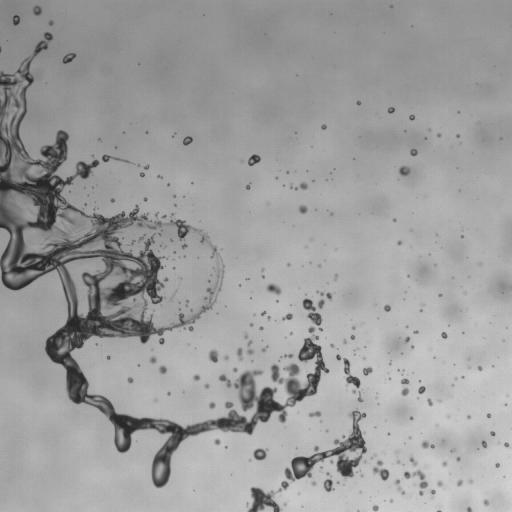droplet: (404, 469, 428, 495), (372, 460, 389, 480), (266, 283, 281, 295), (253, 448, 267, 460), (62, 53, 76, 63), (248, 154, 260, 165), (208, 349, 218, 362), (399, 166, 410, 176), (421, 440, 434, 448), (183, 136, 192, 145), (363, 366, 372, 375), (33, 6, 41, 15), (409, 457, 417, 466), (282, 313, 292, 320), (299, 205, 307, 213), (158, 366, 167, 373), (13, 15, 19, 25), (157, 242, 166, 248), (149, 356, 156, 363), (418, 386, 425, 393), (410, 149, 417, 155), (384, 304, 390, 311), (427, 398, 433, 405), (388, 107, 394, 113), (181, 243, 187, 249), (441, 332, 447, 338), (193, 374, 199, 380), (209, 402, 215, 408), (214, 438, 220, 444), (483, 499, 489, 505), (372, 505, 378, 511), (457, 479, 462, 486), (437, 480, 442, 487), (430, 489, 435, 496), (262, 346, 267, 352), (128, 377, 133, 383), (185, 299, 189, 306), (321, 124, 326, 129), (350, 334, 355, 339), (404, 337, 409, 342), (204, 383, 209, 388), (490, 431, 495, 436), (504, 442, 509, 447), (442, 461, 447, 466), (311, 480, 316, 485), (482, 441, 486, 447), (49, 20, 53, 25), (409, 115, 414, 119), (144, 165, 149, 169), (140, 172, 144, 177), (246, 184, 250, 189), (129, 241, 134, 245), (397, 240, 401, 245), (261, 311, 266, 315), (467, 507, 472, 511), (437, 133, 441, 137), (110, 198, 114, 202), (224, 355, 228, 359), (478, 366, 482, 370), (233, 368, 237, 372), (486, 413, 490, 417), (456, 457, 460, 461), (495, 463, 499, 467), (334, 274, 337, 279), (244, 333, 247, 338), (162, 215, 166, 218), (319, 467, 322, 471), (357, 101, 360, 104), (456, 134, 459, 137), (158, 175, 161, 178), (144, 198, 147, 201), (393, 218, 396, 221), (438, 293, 441, 296), (267, 316, 270, 319), (260, 326, 263, 329), (352, 326, 355, 329), (414, 330, 417, 333), (352, 390, 355, 393), (467, 415, 470, 418), (410, 416, 413, 419), (451, 449, 454, 452), (469, 480, 472, 483), (250, 323, 252, 326), (343, 340, 346, 342), (331, 344, 333, 347), (107, 356, 110, 358), (286, 171, 288, 173), (167, 183, 169, 185), (170, 239, 172, 241), (287, 263, 289, 265), (318, 265, 320, 267), (262, 275, 264, 277), (463, 292, 465, 294), (290, 332, 292, 334), (389, 362, 391, 364), (167, 392, 169, 394), (371, 456, 373, 458), (397, 461, 399, 463), (284, 503, 286, 505)
ligament: (0, 32, 324, 488), (246, 409, 366, 511), (336, 354, 360, 388), (323, 472, 334, 491), (102, 154, 127, 162), (394, 479, 405, 495), (401, 378, 409, 395), (317, 291, 332, 300), (290, 182, 307, 189), (246, 341, 253, 354), (236, 347, 243, 360), (309, 411, 321, 417), (169, 291, 176, 300), (357, 391, 362, 401), (282, 354, 292, 358), (357, 470, 362, 475), (0, 47, 1, 51), (437, 510, 441, 511)
